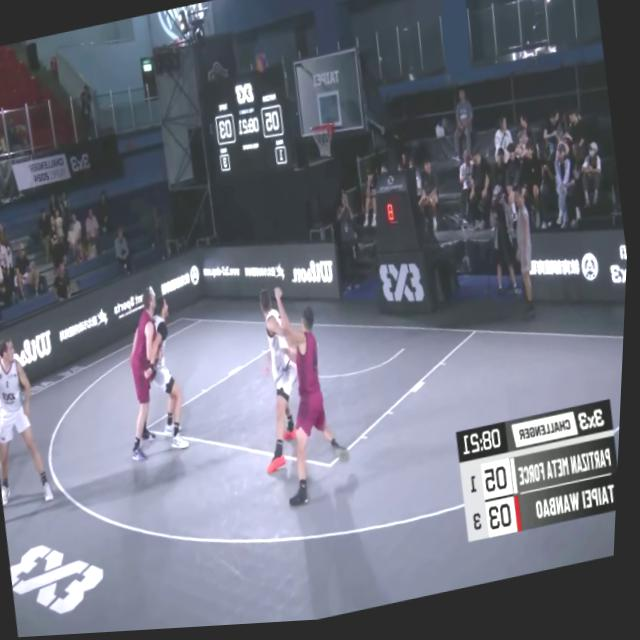ball: (253, 52, 271, 79)
hoop: (308, 122, 341, 168)
player: (258, 277, 371, 519), (242, 273, 325, 485), (105, 285, 186, 476), (0, 327, 63, 513), (131, 292, 199, 464), (0, 321, 29, 527)
